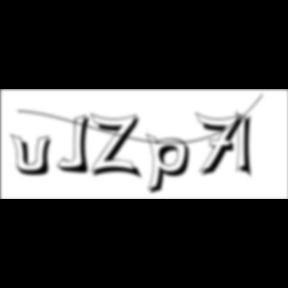7: (196, 111, 251, 179)
J: (58, 114, 96, 176)
Z: (90, 112, 145, 181)
l: (236, 108, 260, 182)
p: (146, 132, 196, 198)
u: (10, 132, 58, 178)
